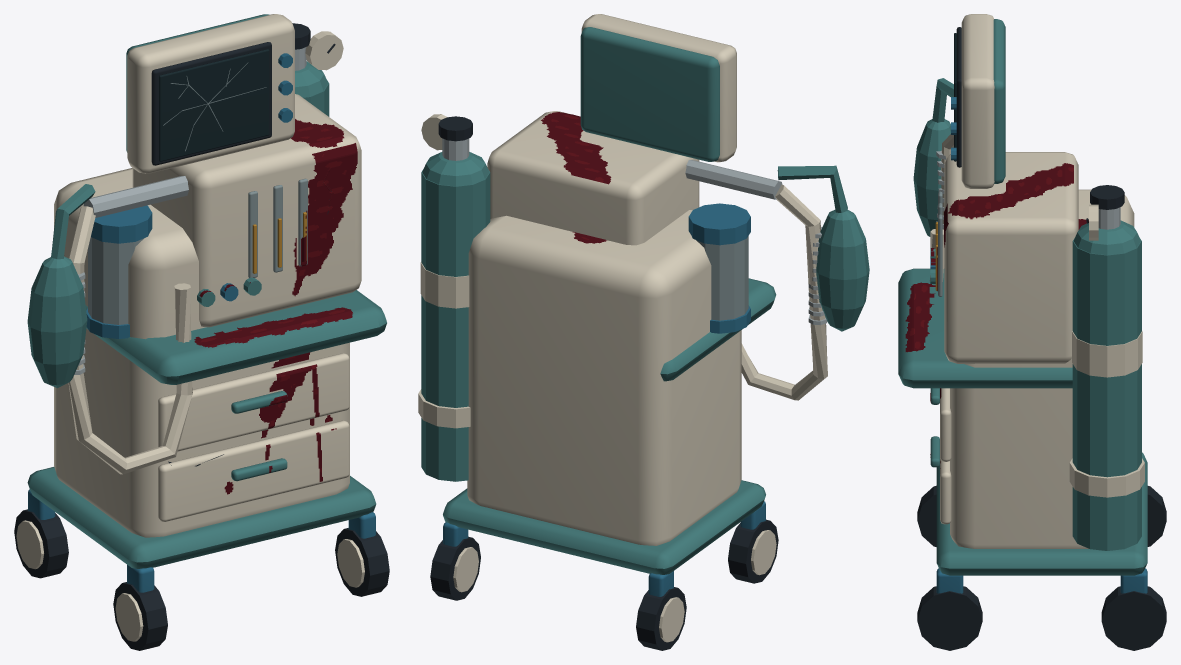
The model's file is anesthesia_workstation.glb.
3 renders of one model, left to right at view 1: azimuth 30°, elevation 25°; view 2: azimuth 150°, elevation 25°; view 3: azimuth 270°, elevation 25°, orthographic. The views are drawn at different scales.
Parts seen in each view (by area): view 1: Anesthesia_Workstation_Outbreak_Static; view 2: Anesthesia_Workstation_Outbreak_Static; view 3: Anesthesia_Workstation_Outbreak_Static.
Part boxes in pixels (x1=…): Anesthesia_Workstation_Outbreak_Static: x1=14, y1=14, x2=389, y2=650; Anesthesia_Workstation_Outbreak_Static: x1=418, y1=14, x2=869, y2=650; Anesthesia_Workstation_Outbreak_Static: x1=898, y1=14, x2=1166, y2=650.
Bounding box in the file's own units: 1.1 × 1.55 × 0.7.
